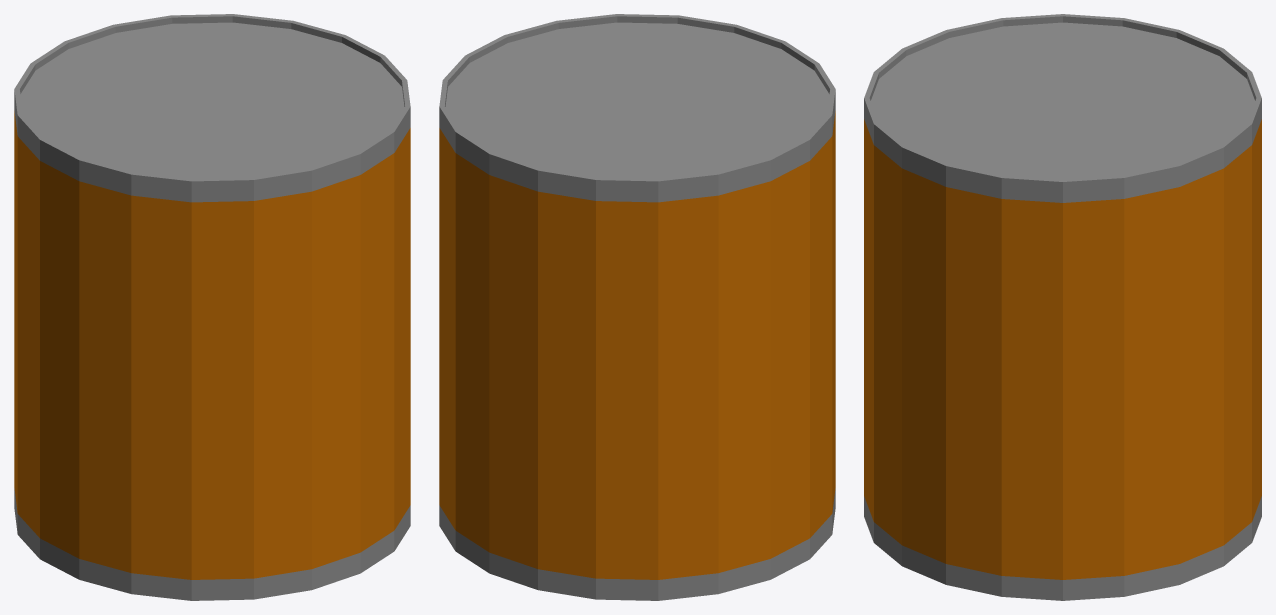
File: Can_Of_soup.fbx
3 renders of one model, left to right at view 1: azimuth 30°, elevation 25°; view 2: azimuth 150°, elevation 25°; view 3: azimuth 270°, elevation 25°, orthographic.
Parts seen in each view (by area): view 1: Can1; view 2: Can1; view 3: Can1.
Part boxes in pixels (box(x1,y1,x2,y2)): Can1: box(14, 14, 410, 600); Can1: box(439, 14, 835, 600); Can1: box(864, 14, 1261, 600).
Bounding box in the file's own units: 8.24 × 9.58 × 8.24.
